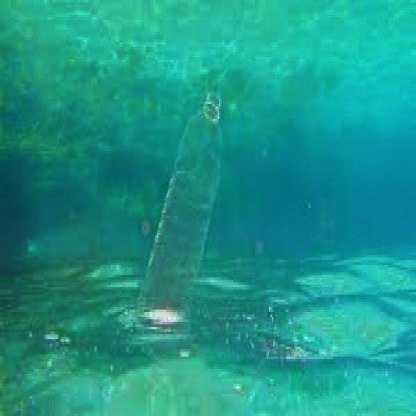pbottle: (124, 87, 232, 349)
